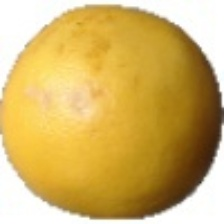grapes: (16, 57, 215, 204)
